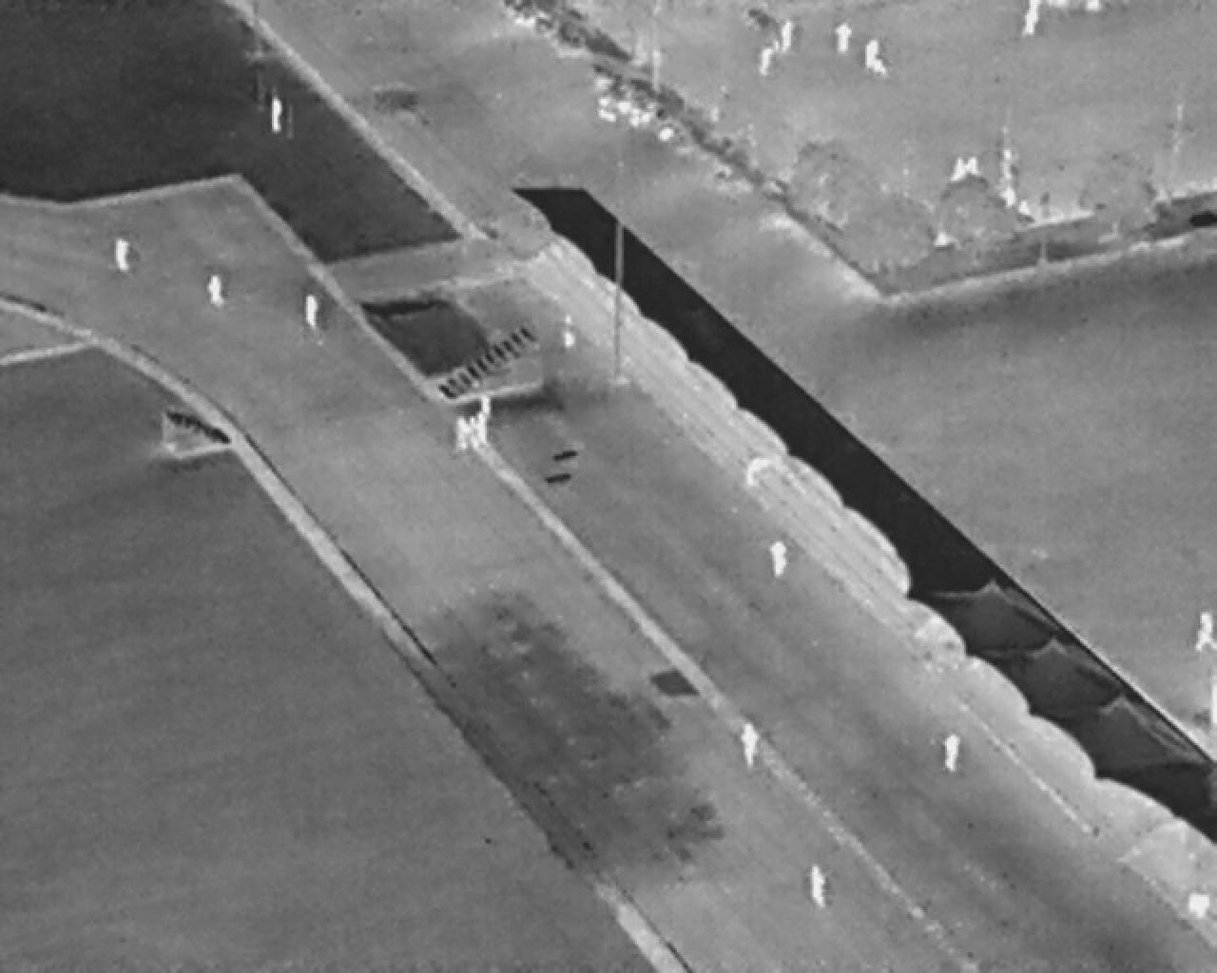person: (741, 723, 762, 769), (1197, 611, 1217, 657), (769, 541, 788, 581), (811, 866, 828, 909), (836, 22, 855, 58), (115, 238, 132, 277), (944, 735, 961, 774), (208, 277, 227, 309), (305, 296, 320, 332), (564, 315, 579, 351), (271, 96, 284, 136), (455, 417, 469, 451), (782, 20, 796, 54), (760, 47, 775, 77), (866, 39, 879, 71), (478, 415, 490, 449), (480, 394, 493, 423), (469, 417, 480, 451)
